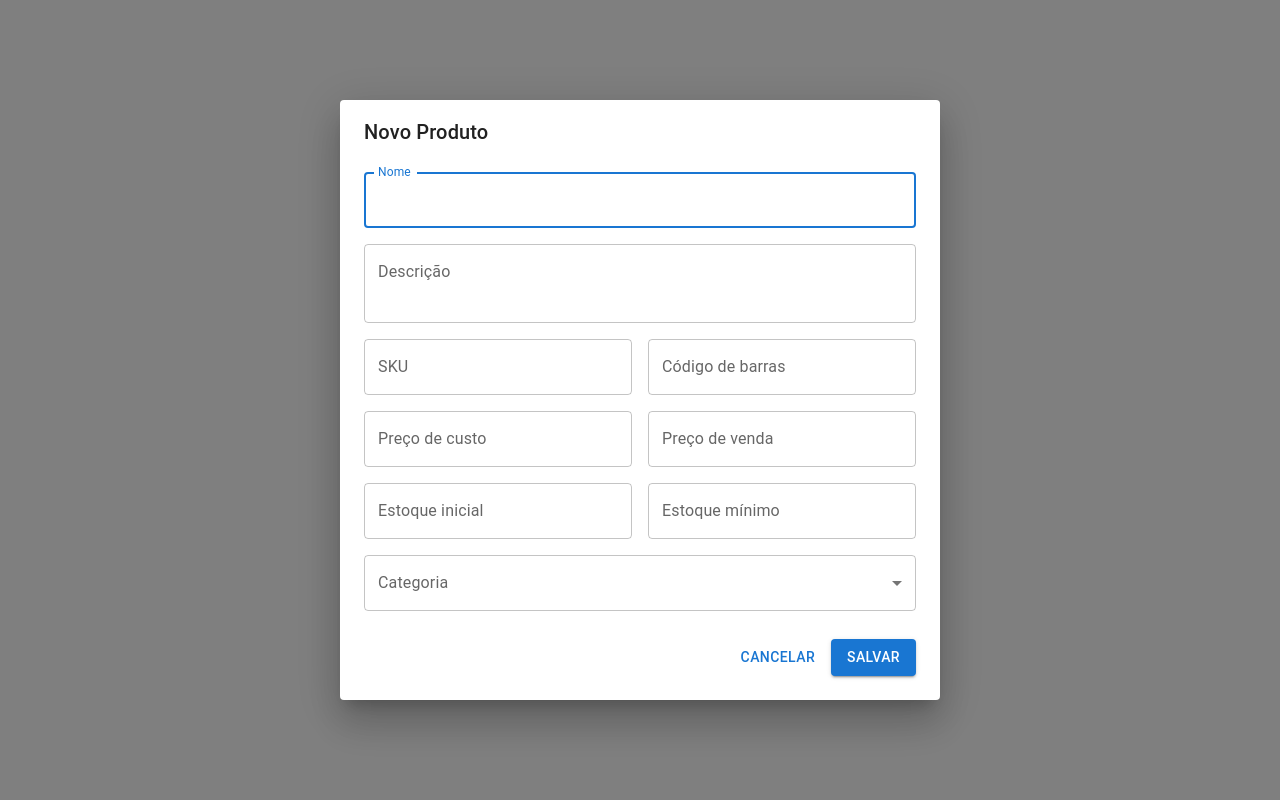
Test case: ProductFormDialog › não deve listar categorias inativas no seletor de categoria
Click the dropdown named "Categoria". click: [640, 583]
box: [364,555,916,611]
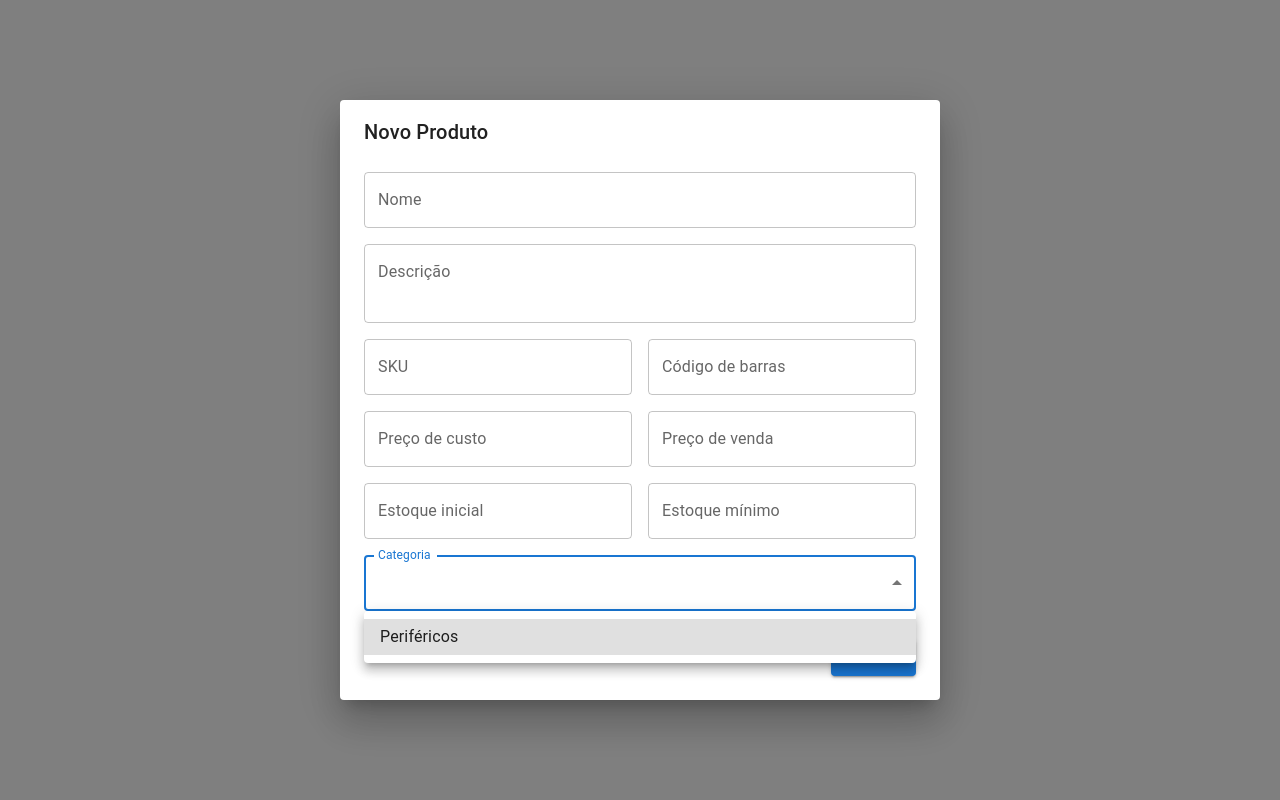
Now the option "Periféricos" is shown, box [364,619,916,655]
